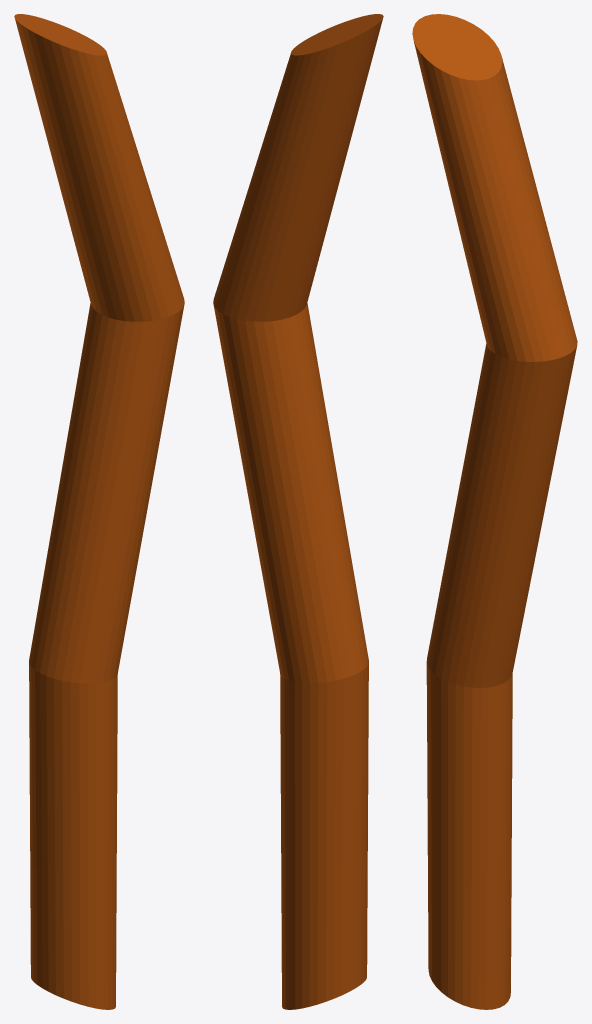
Rendered from Stick.fbx.
3 renders of one model, left to right at view 1: azimuth 30°, elevation 25°; view 2: azimuth 150°, elevation 25°; view 3: azimuth 330°, elevation 25°, orthographic. The views are drawn at different scales.
Parts seen in each view (by area): view 1: Cylinder; view 2: Cylinder; view 3: Cylinder.
Boxes of the visible parts, <box> form: Cylinder: <box>14,14,184,1009</box>; Cylinder: <box>213,14,383,1009</box>; Cylinder: <box>412,14,577,1009</box>.
Size of the model in its own units: 232 by 1407 by 128.
